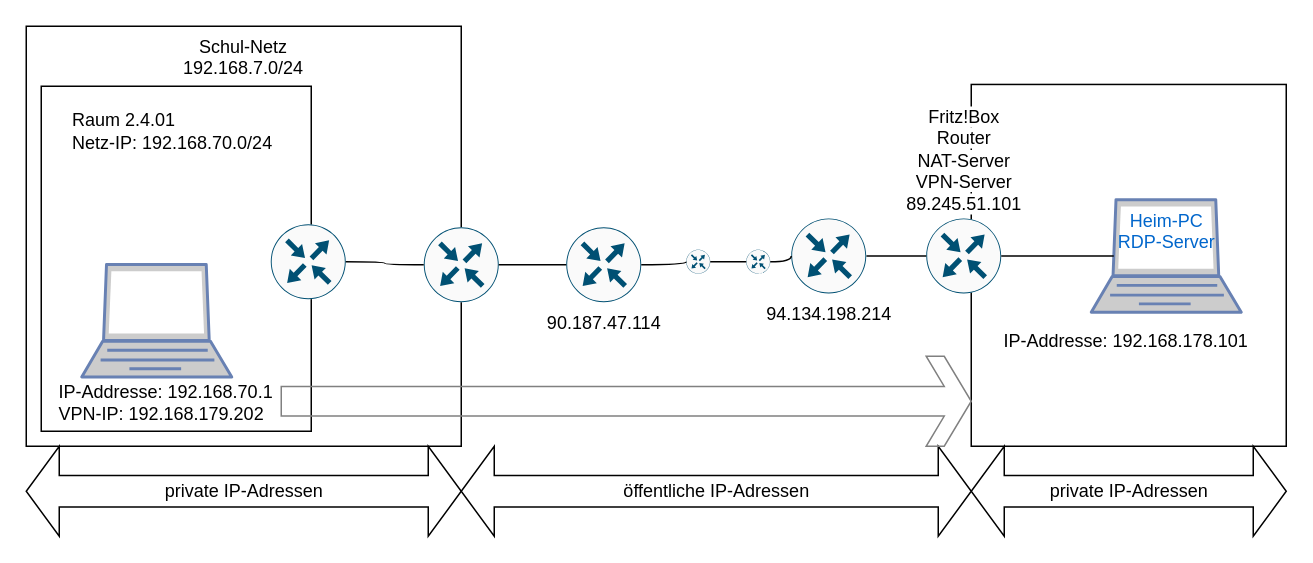
Image size: 1313x563. Some labels were removed from this diagram. Here are the shapes that lost their labels. From the top down, the box of each, then its label:
(422, 226, 499, 302): Netzzugang NAT-Server 90.187.47.113
(970, 83, 1286, 446): LAN Heimnetz 192.168.178.0/24
(80, 262, 232, 378): Lehrer-PC VPN-Client RDP-Client
(280, 355, 971, 446): VPN-Tunnel End-To-Site-VPN
